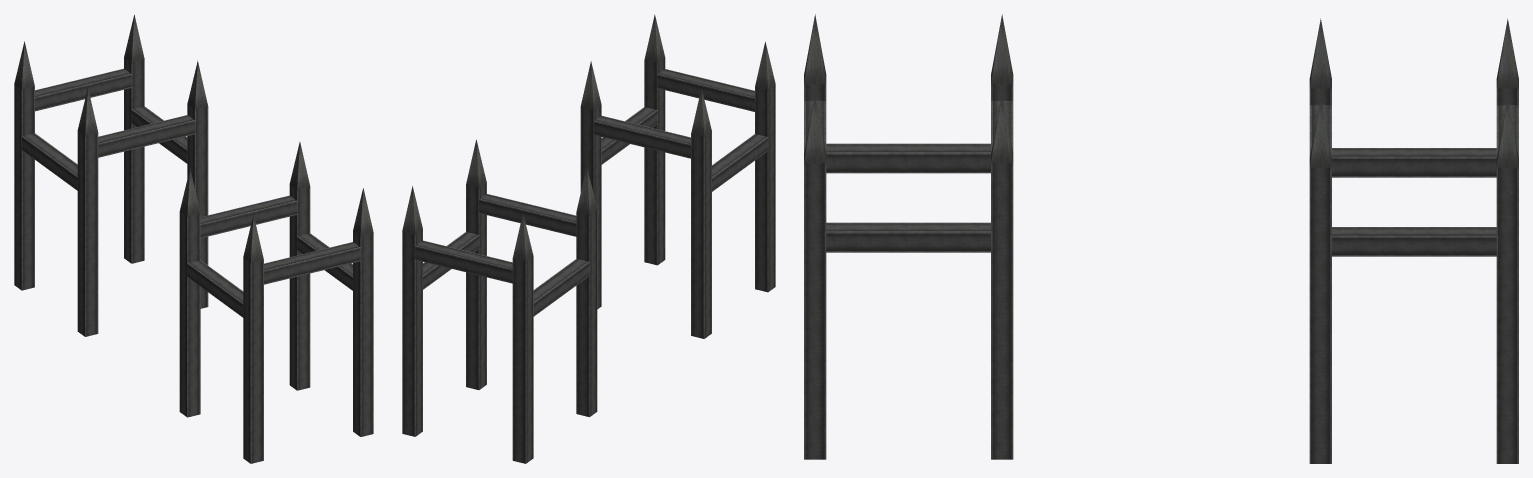
Rendered from des_substat_17.obj.
3 renders of one model, left to right at view 1: azimuth 30°, elevation 25°; view 2: azimuth 150°, elevation 25°; view 3: azimuth 270°, elevation 25°, orthographic. The views are drawn at different scales.
Visible parts, largest first — view 1: des_substat_17; view 2: des_substat_17; view 3: des_substat_17.
Boxes of the visible parts, <box> form: des_substat_17: <box>14,14,373,463</box>; des_substat_17: <box>402,14,775,463</box>; des_substat_17: <box>804,14,1518,463</box>.
Size of the model in its own units: 3.66 by 6.66 by 11.91.
Materials: 2 (2 with a texture image).
